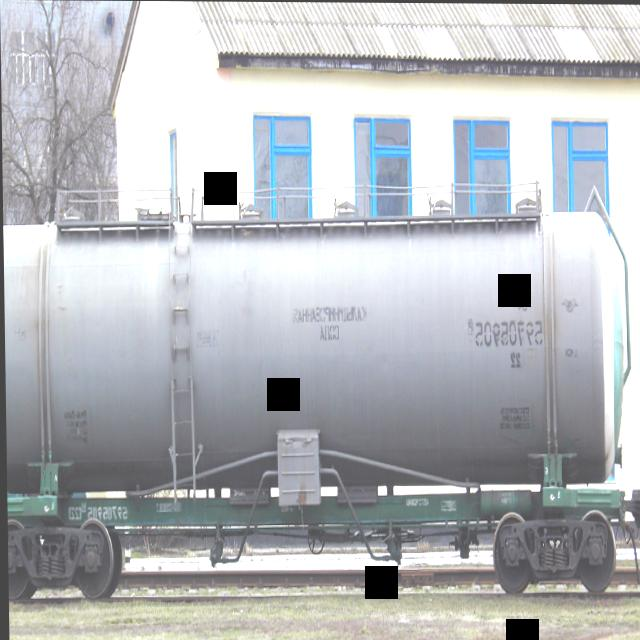tank: (2, 155, 640, 607)
